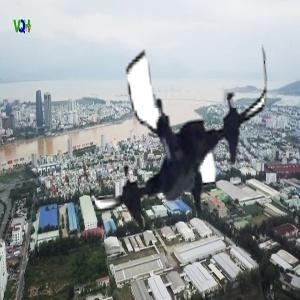drone: (69, 22, 285, 238)
